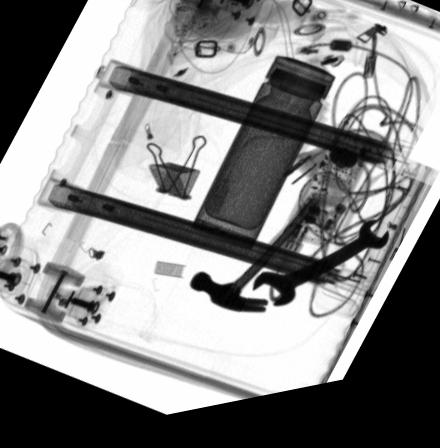Hammer: (190, 202, 328, 323)
Wrench: (253, 235, 389, 317)
